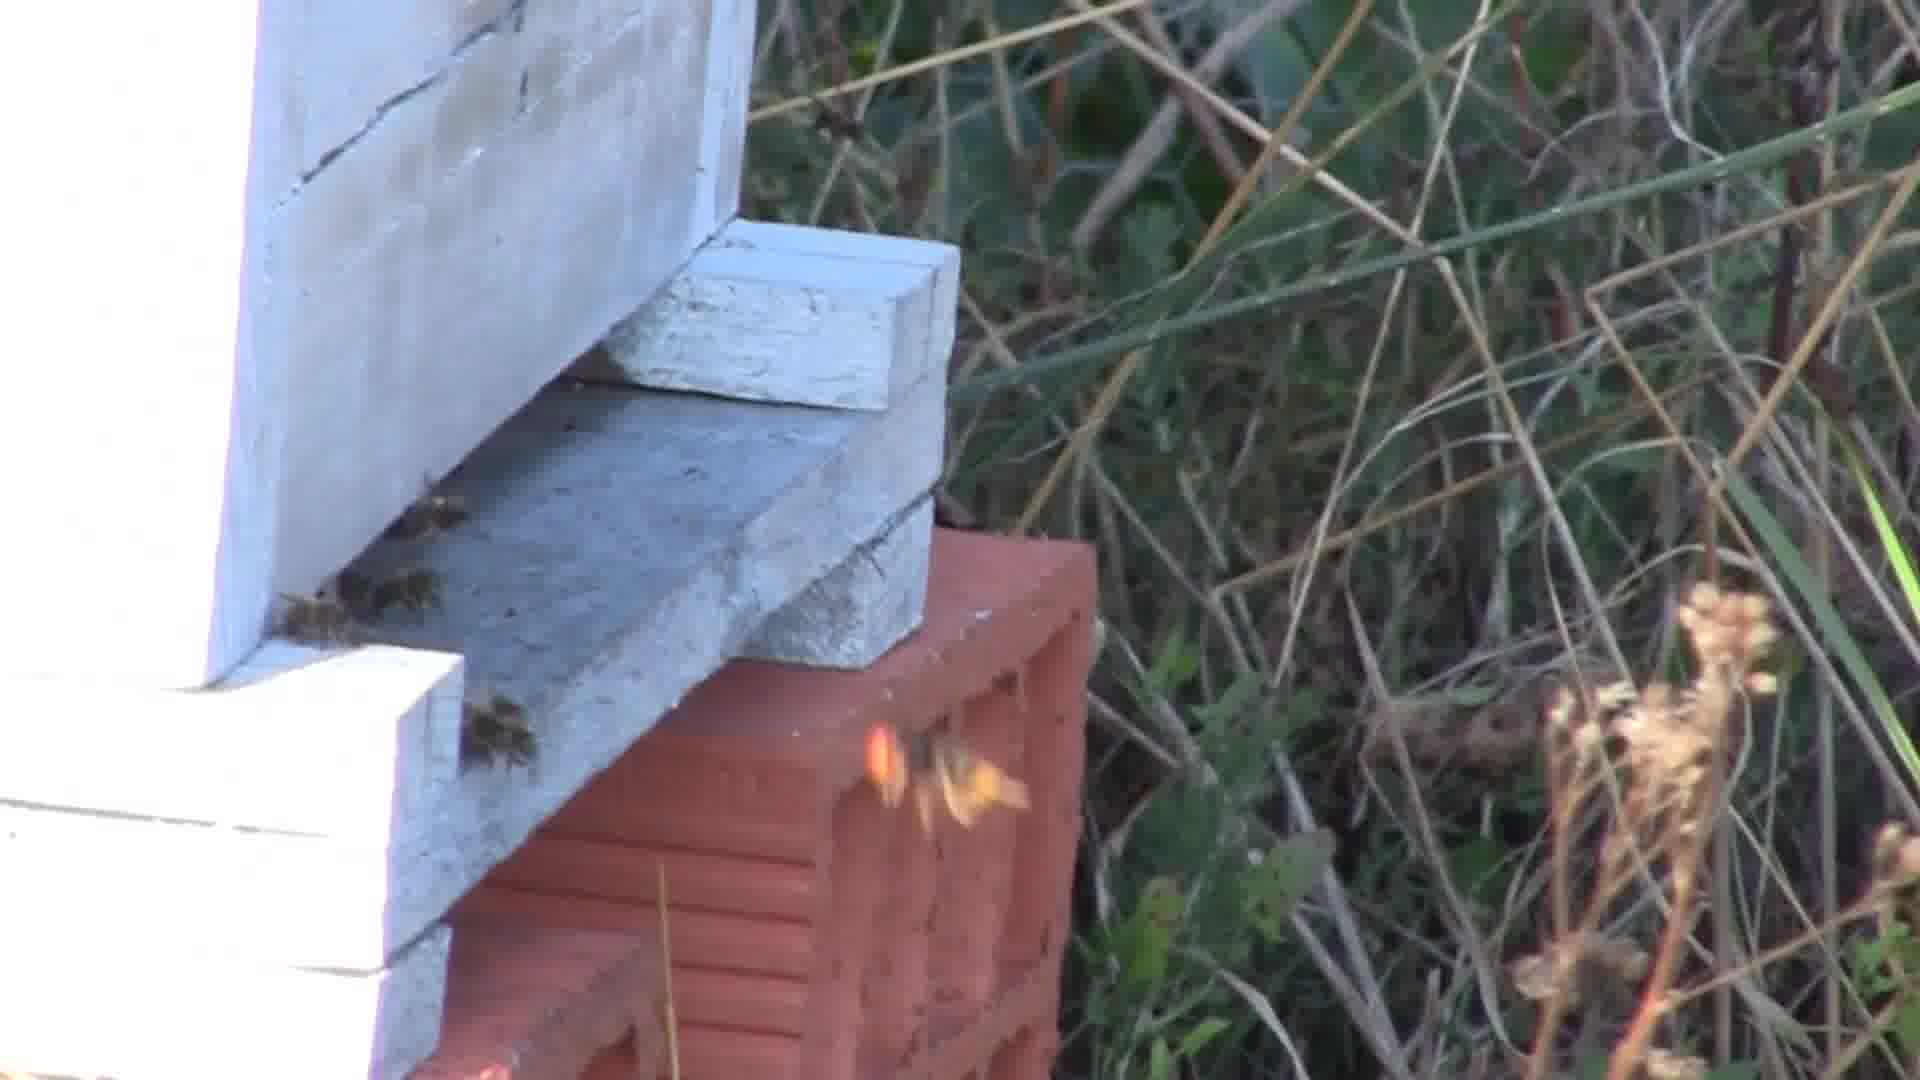bee: (462, 684, 553, 779), (371, 564, 450, 625)
hornet: (851, 712, 1036, 840)
